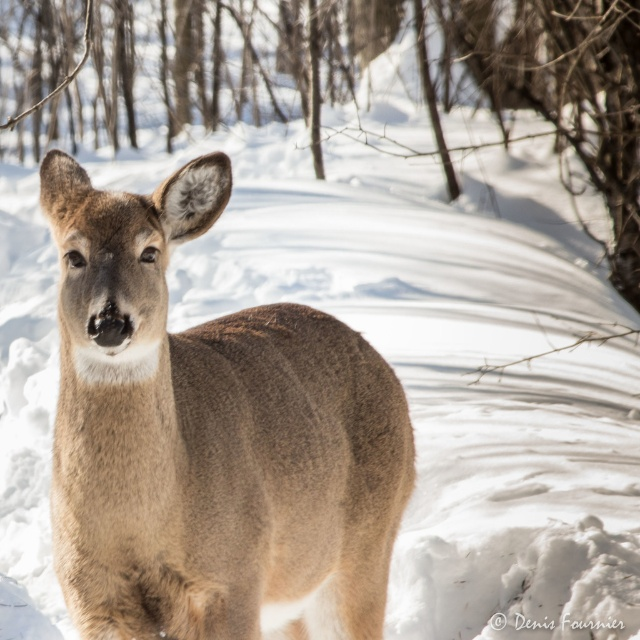Deer: (40, 149, 418, 640)
